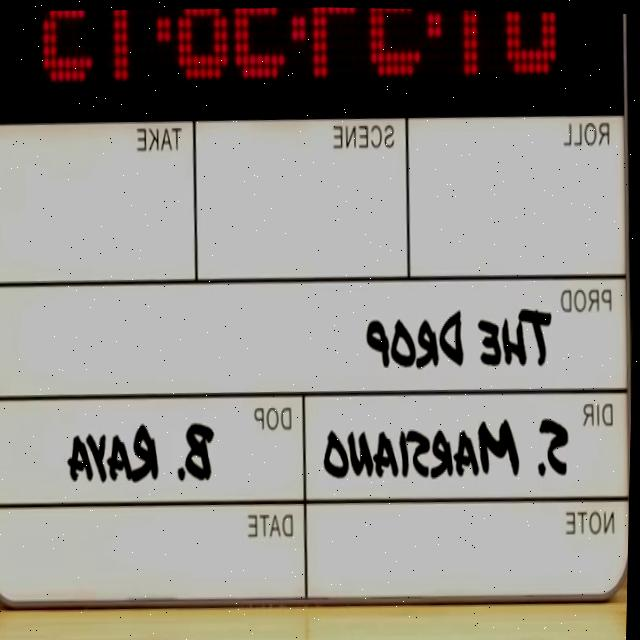Clapperboard: (0, 0, 640, 624)
